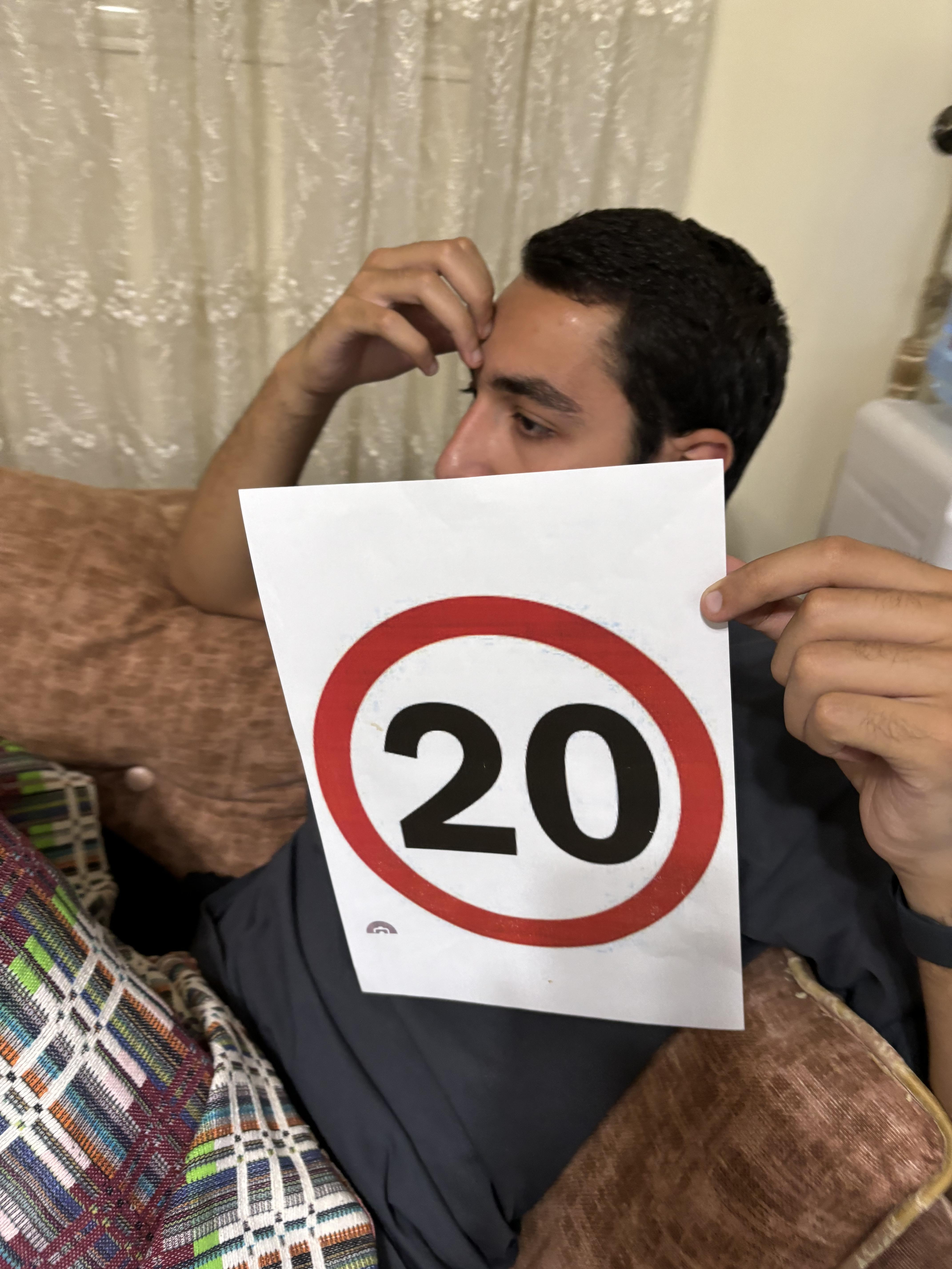20-Speed: (310, 589, 732, 957)
